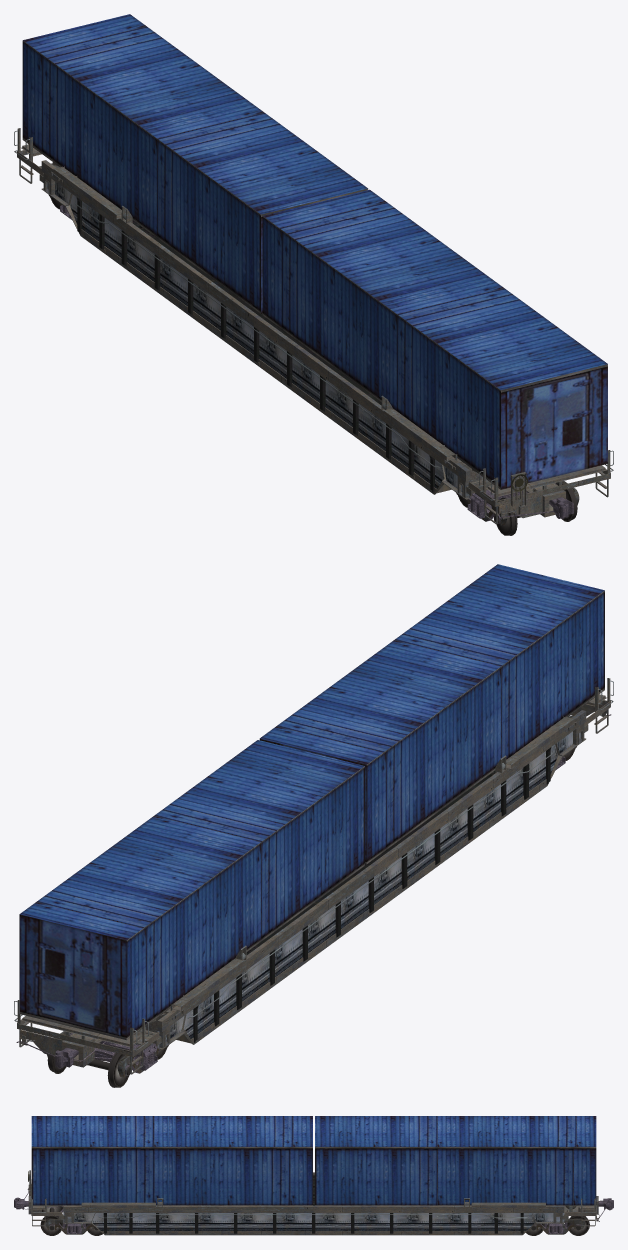
File: TrainCabin_3.FBX
3 views of the same model, one above another, from view 1: azimuth 30°, elevation 25°; view 2: azimuth 150°, elevation 25°; view 3: azimuth 270°, elevation 25° (orthographic). The views are drawn at different scales.
Parts seen in each view (by area): view 1: Body; view 2: Body, Wheel_R2; view 3: Body, Wheel_F1, Wheel_R2.
Boxes of the visible parts, left/top/right/bottom form: Body: left=14, top=14, right=613, bottom=525; Body: left=14, top=564, right=613, bottom=1077; Wheel_R2: left=47, top=1038, right=130, bottom=1087; Body: left=14, top=1116, right=613, bottom=1235; Wheel_F1: left=40, top=1206, right=62, bottom=1235; Wheel_R2: left=567, top=1206, right=589, bottom=1235.
Bounding box in the file's own units: 44.9 × 54.53 × 309.
Materials: 1 (1 with a texture image).
